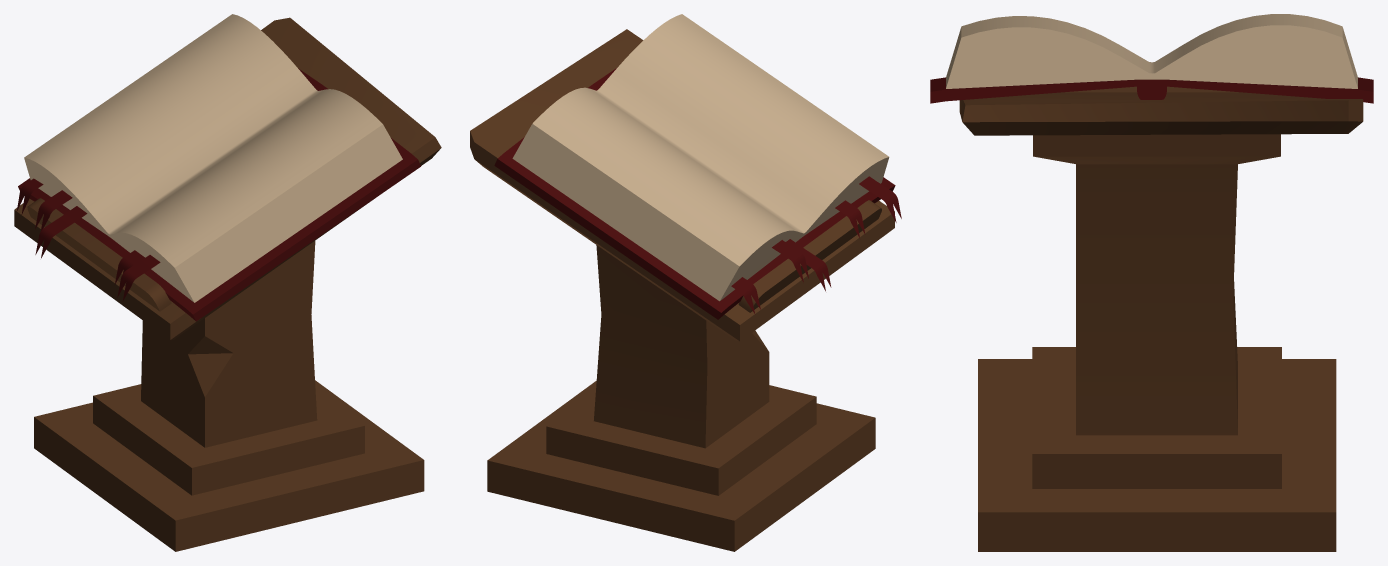
Rendered from SM_SpellTable.fbx.
3 views of the same model, side by side, from view 1: azimuth 30°, elevation 25°; view 2: azimuth 150°, elevation 25°; view 3: azimuth 270°, elevation 25° (orthographic). The views are drawn at different scales.
Visible parts, largest first — view 1: Box001; view 2: Box001; view 3: Box001.
Part boxes in pixels (bbox=[...]): Box001: bbox=[14, 14, 441, 551]; Box001: bbox=[470, 14, 901, 551]; Box001: bbox=[930, 14, 1373, 551].
Size of the model in its own units: 39.9 by 48.72 by 39.52.
